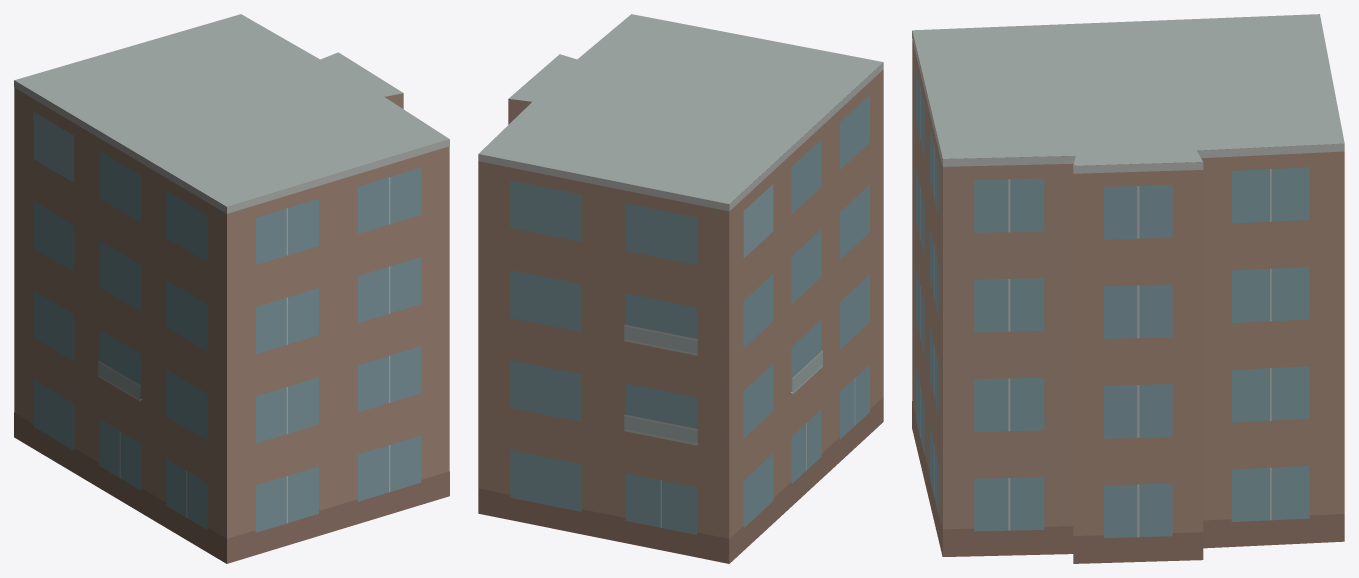
File: survey-upis-32633248.glb
3 views of the same model, side by side, from view 1: azimuth 30°, elevation 25°; view 2: azimuth 150°, elevation 25°; view 3: azimuth 270°, elevation 25° (orthographic). The views are drawn at different scales.
Parts seen in each view (by area): view 1: survey-upis-32633248.tmp; view 2: survey-upis-32633248.tmp; view 3: survey-upis-32633248.tmp.
Part boxes in pixels (x1,y1,x2,y2): survey-upis-32633248.tmp: (14,14,449,563); survey-upis-32633248.tmp: (478,14,883,563); survey-upis-32633248.tmp: (912,14,1344,563).
Bounding box in the file's own units: 9.99 × 12.2 × 12.02.
